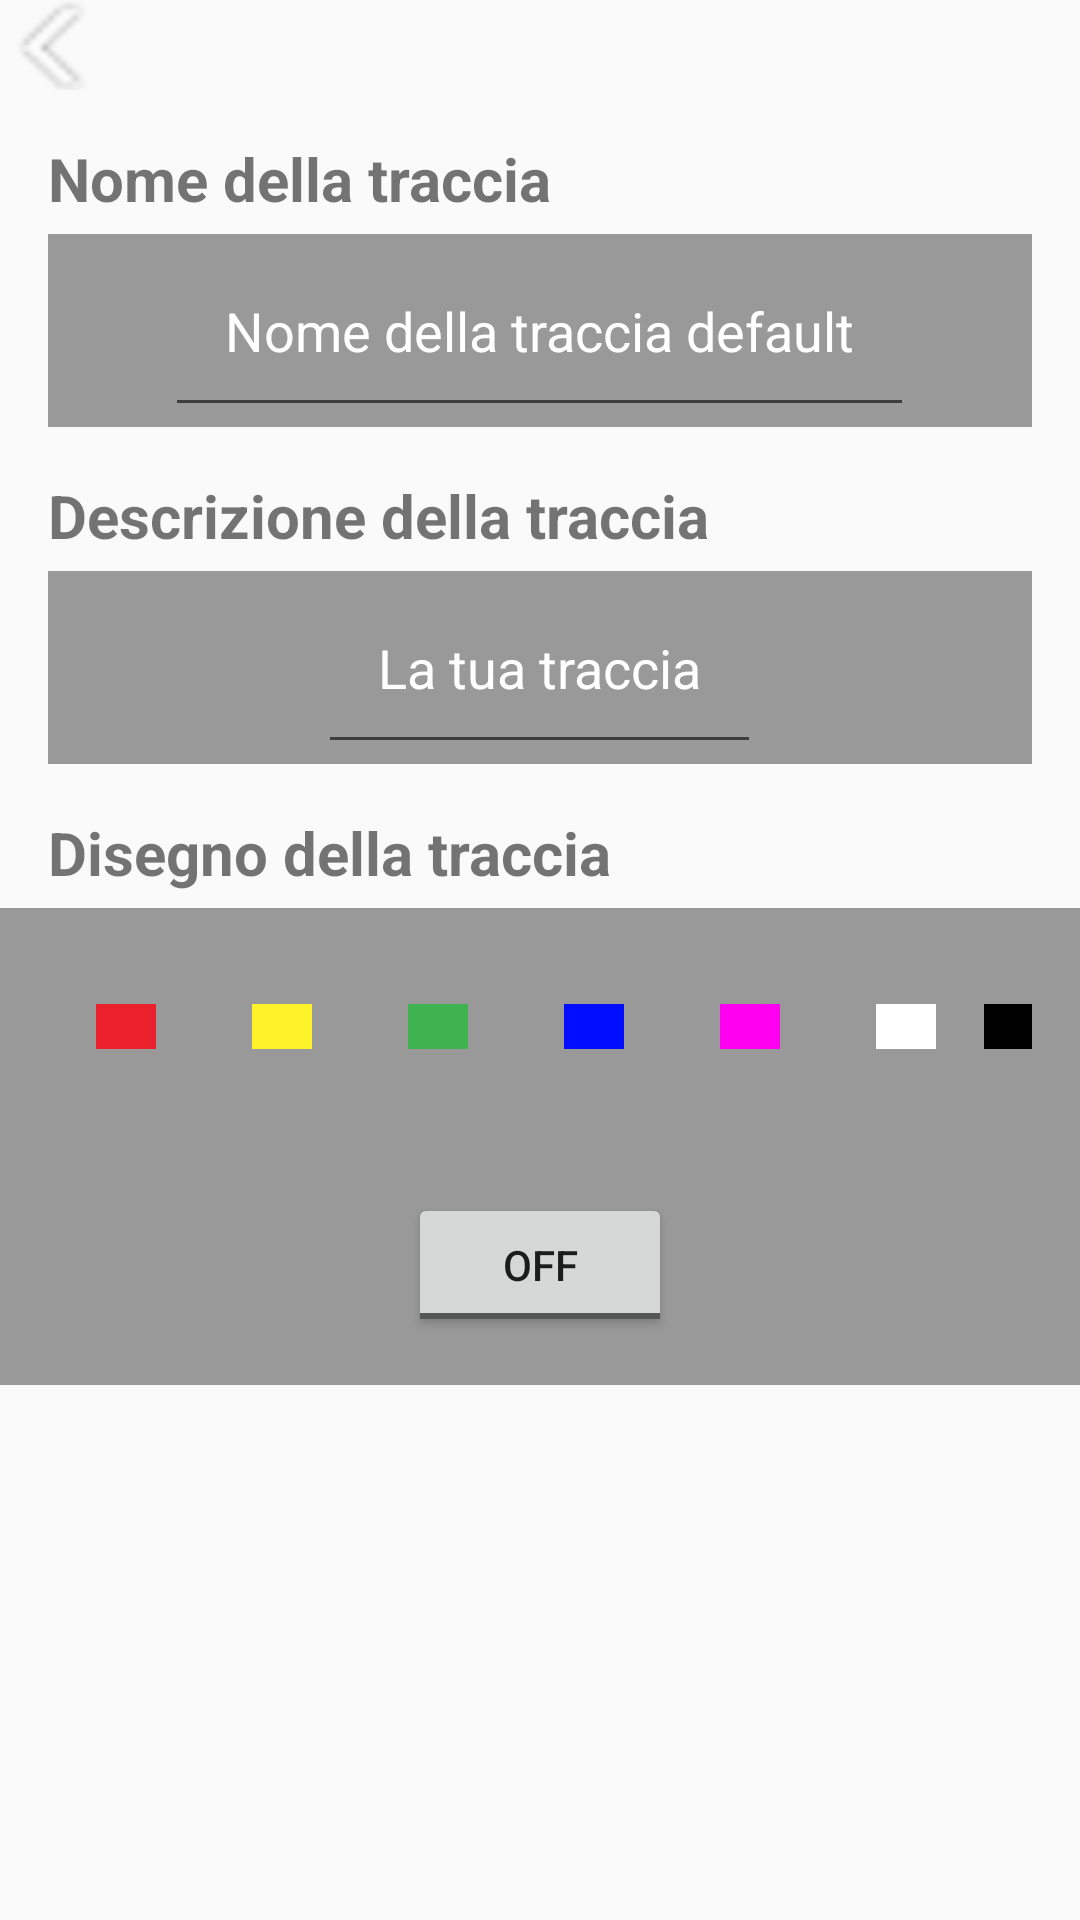

Icon click points for this 1080 x 1920 phone screenshot, format (x,y):
left arrow: (51,45)
